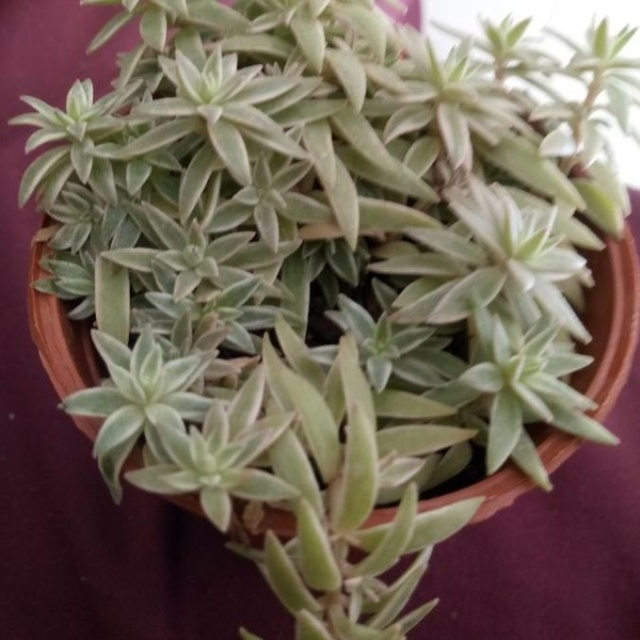obstacle: (42, 31, 626, 614)
